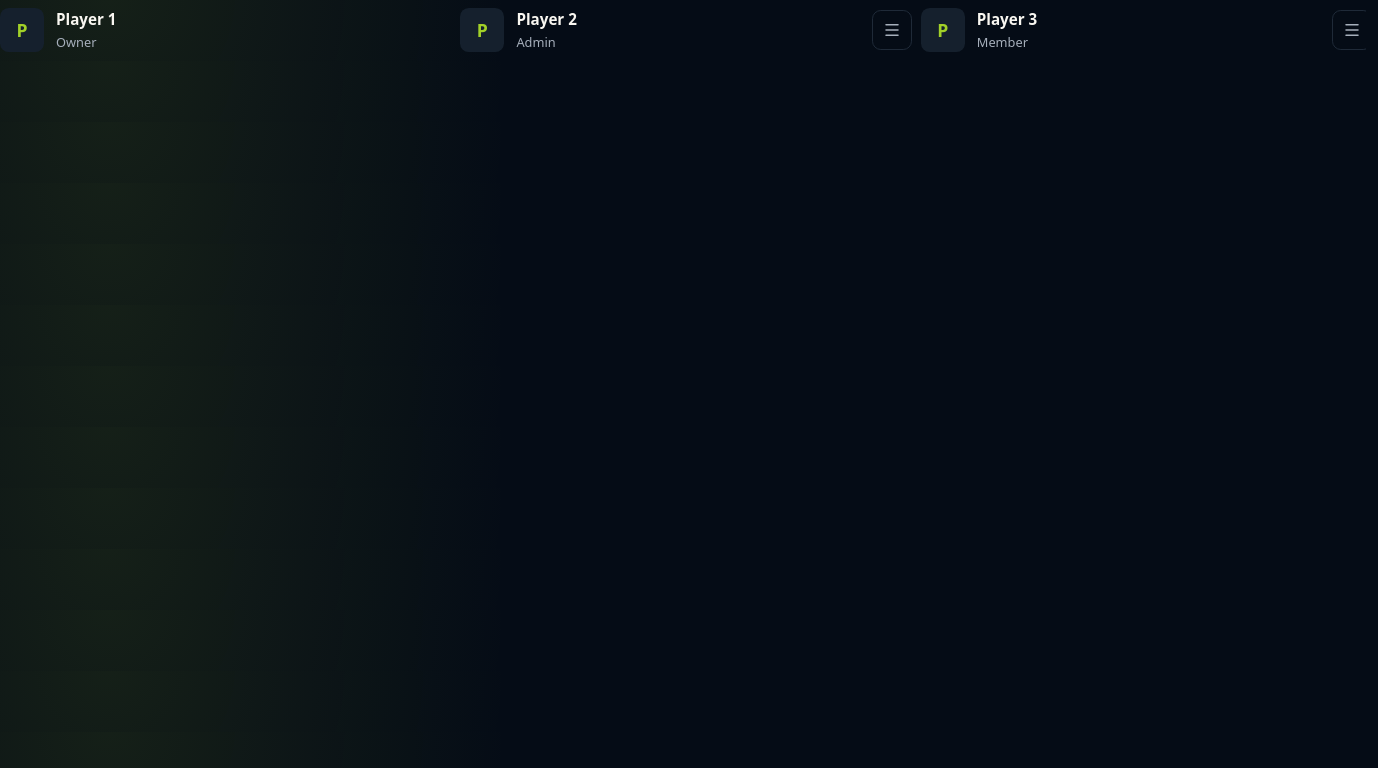
Test: member menu › lets an owner remove an admin's role
Step 1. Click the button named "Options for Player 2" → (892, 30), box [872,10,912,50]
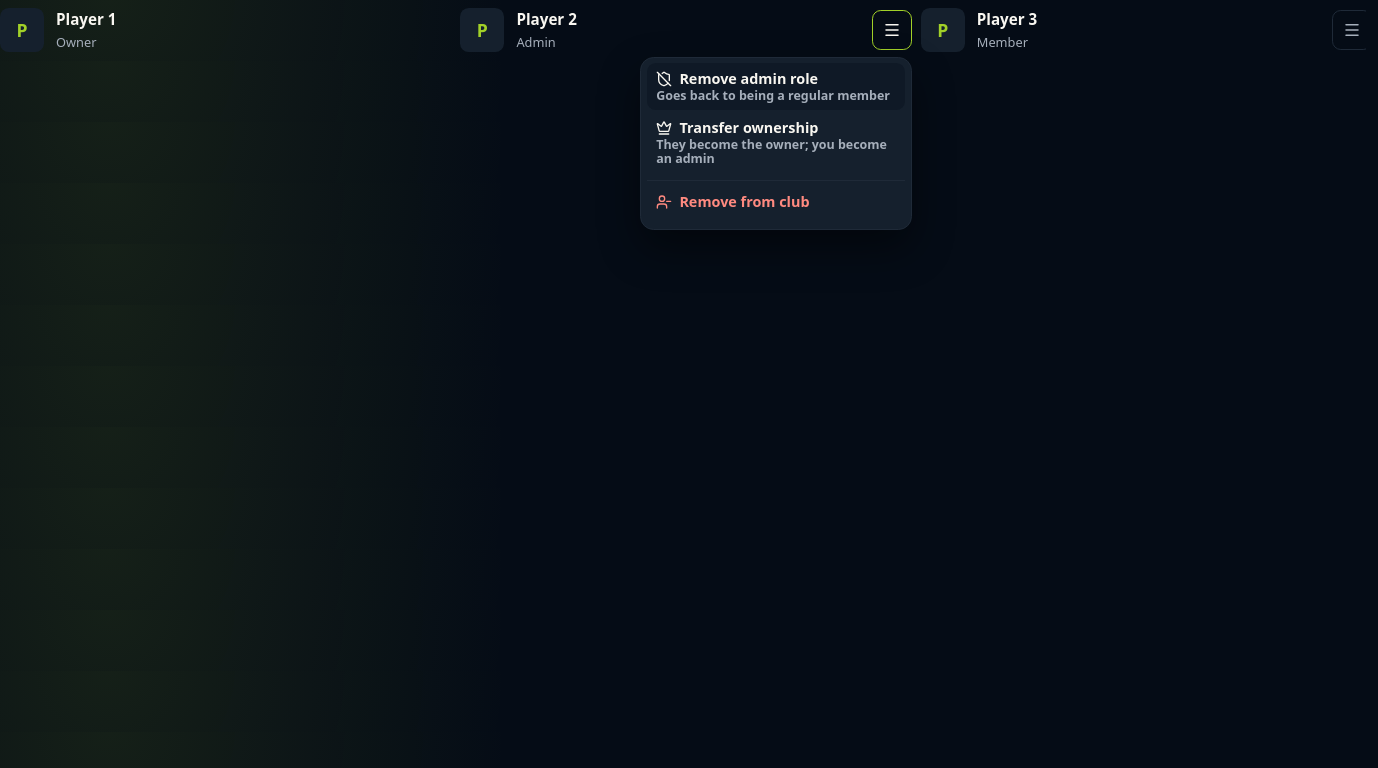
Step 2. Click the menu item "Remove admin role Goes back to being a regular member" → (776, 87), box [647,64,905,110]
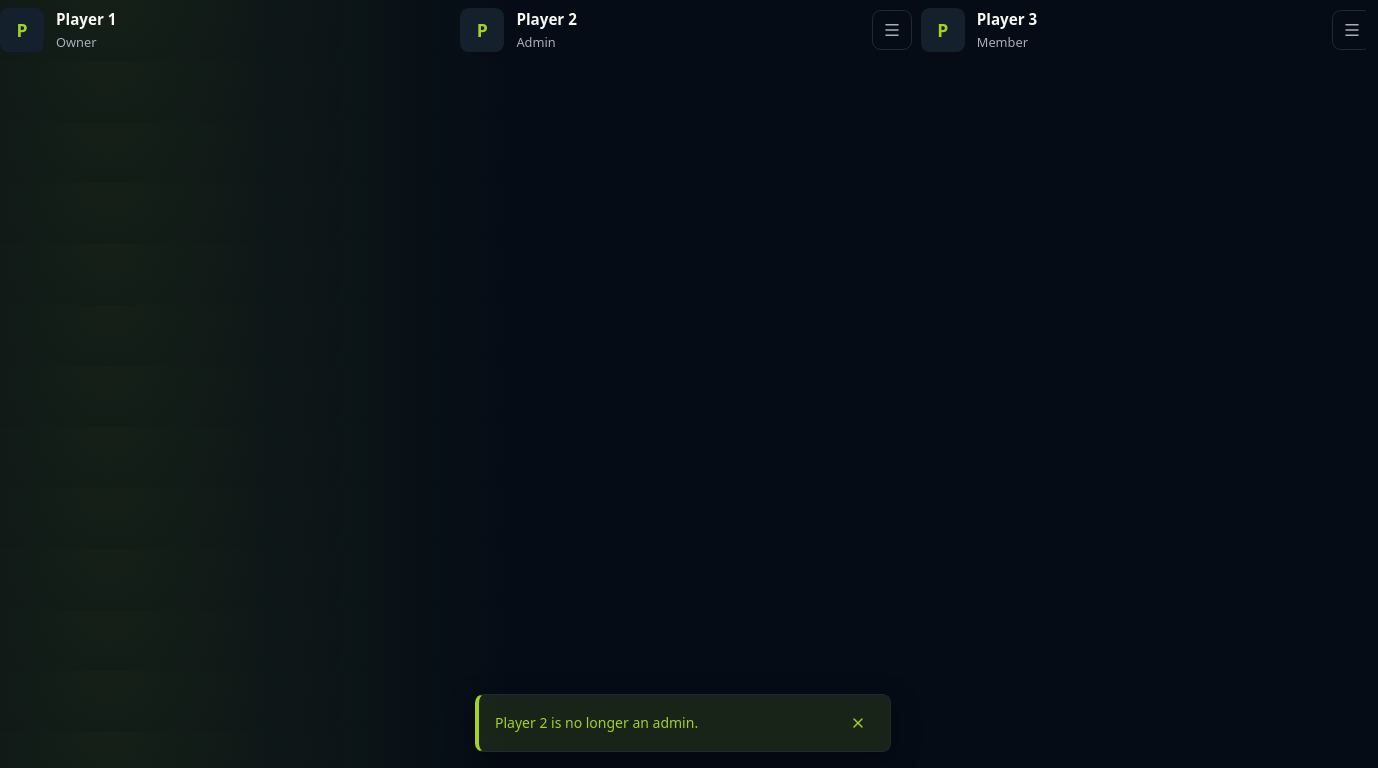
Result: the message reads "Player 2 is no longer an admin." at [495,713,698,732]
